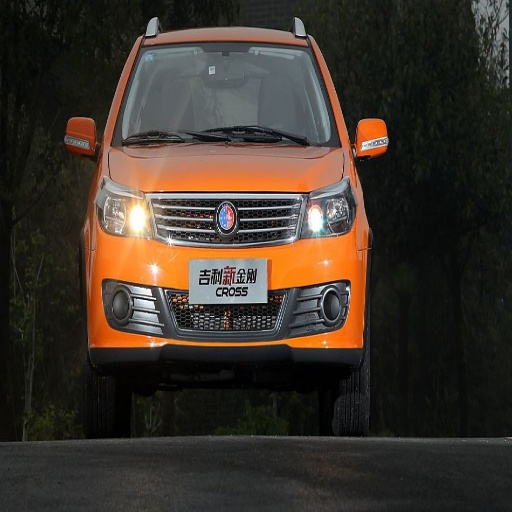front_bumper: (93, 192, 365, 357)
front_right_light: (95, 178, 153, 237)
hood: (106, 146, 344, 192)
left_mirror: (354, 118, 389, 159)
